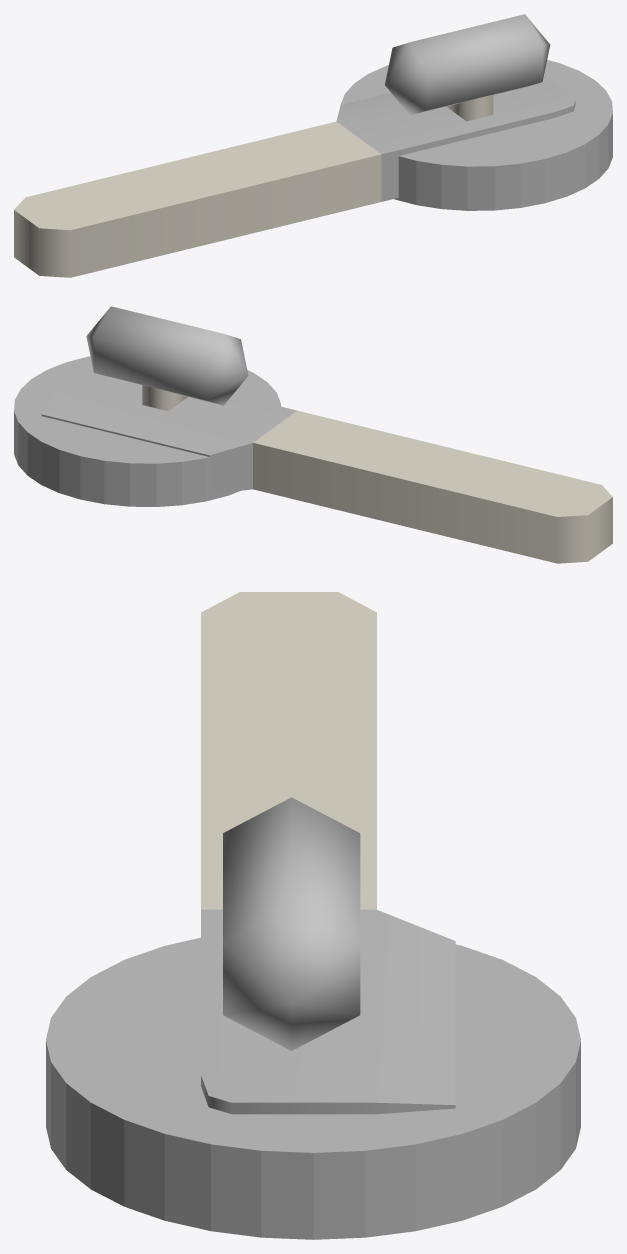
The model's file is CanSealer.fbx.
The picture shows the model from 3 angles, top to bottom: view 1: azimuth 30°, elevation 25°; view 2: azimuth 150°, elevation 25°; view 3: azimuth 270°, elevation 25°; orthographic projection. The views are drawn at different scales.
Parts seen in each view (by area): view 1: CanSealer, Cylinder; view 2: CanSealer, Cylinder; view 3: CanSealer, Cylinder.
Boxes of the visible parts, left/top/right/bottom form: CanSealer: left=14, top=14, right=575, bottom=277; Cylinder: left=340, top=60, right=612, bottom=210; CanSealer: left=41, top=306, right=612, bottom=563; Cylinder: left=14, top=356, right=280, bottom=506; CanSealer: left=201, top=592, right=455, bottom=1114; Cylinder: left=46, top=937, right=580, bottom=1239.
Size of the model in its own units: 39.32 by 8.69 by 16.19.
